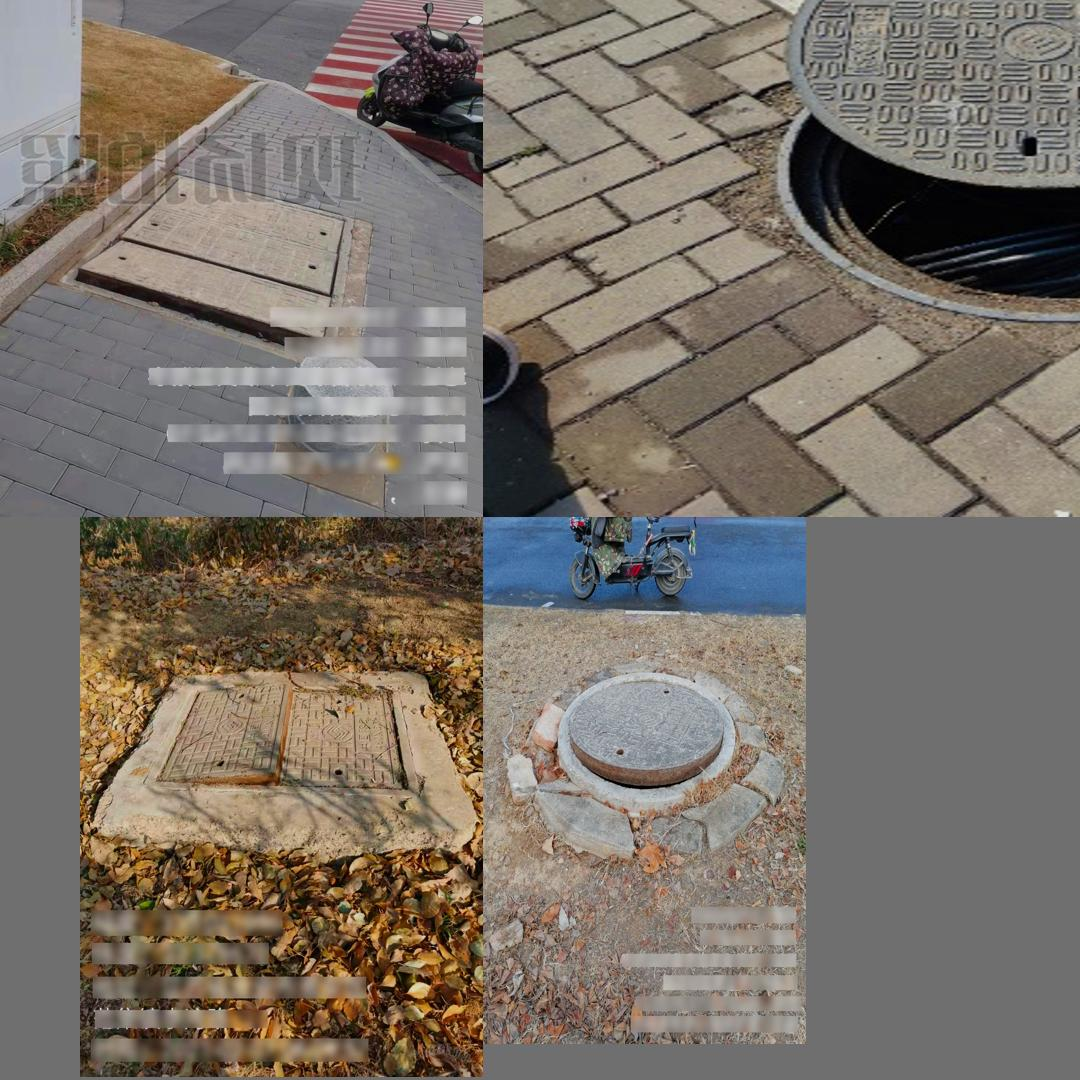uncovered: (715, 0, 1080, 319), (68, 176, 354, 350), (145, 683, 419, 798), (558, 669, 736, 811)
